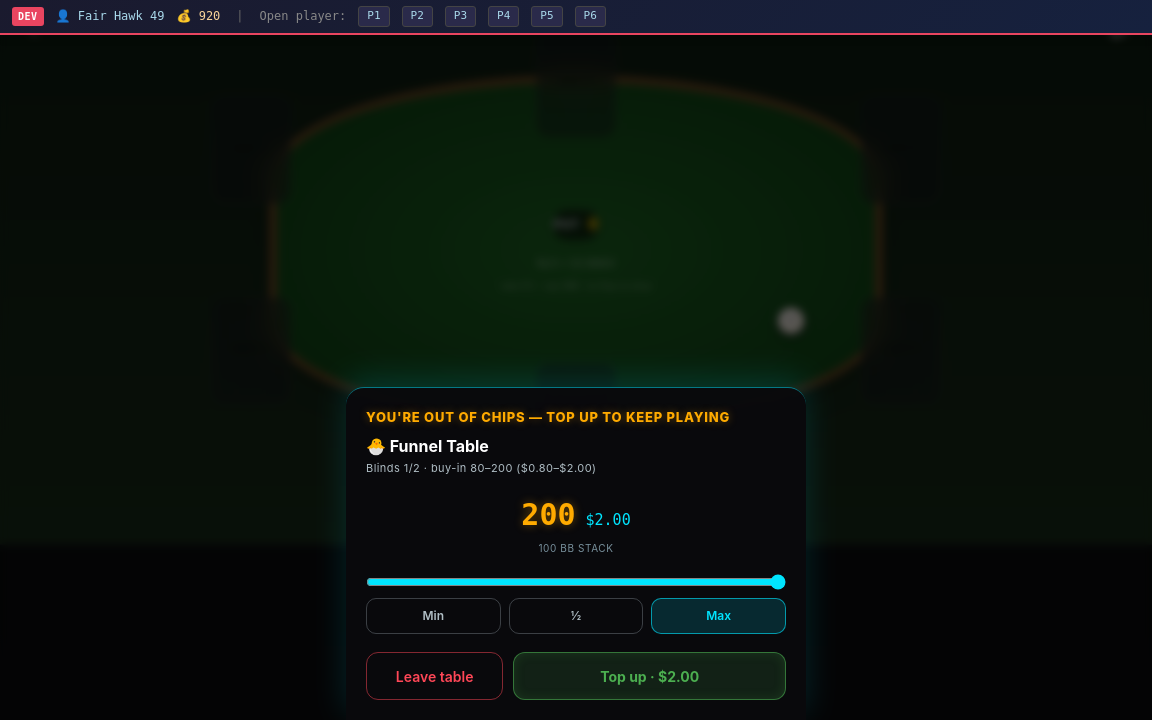
busting out offers a re-buy (exit-reconnect B10) › declining leaves the table — there is no "just close"
The width and height of the screenshot is (1152, 720).
Expected: the text "You're out of chips — top up to keep playing" is shown, [366,408,786,428]
Click the button "Leave table": (435, 676) [366,652,503,700]
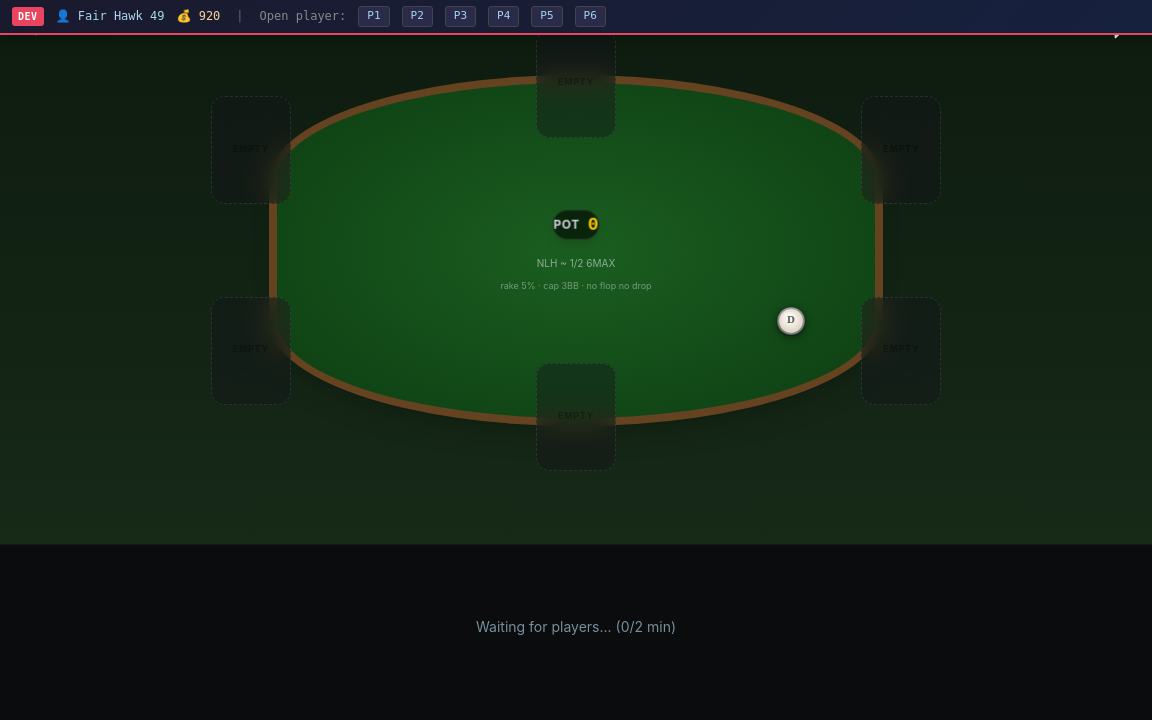
Result: the text with test id "rebuy-heading" is gone
